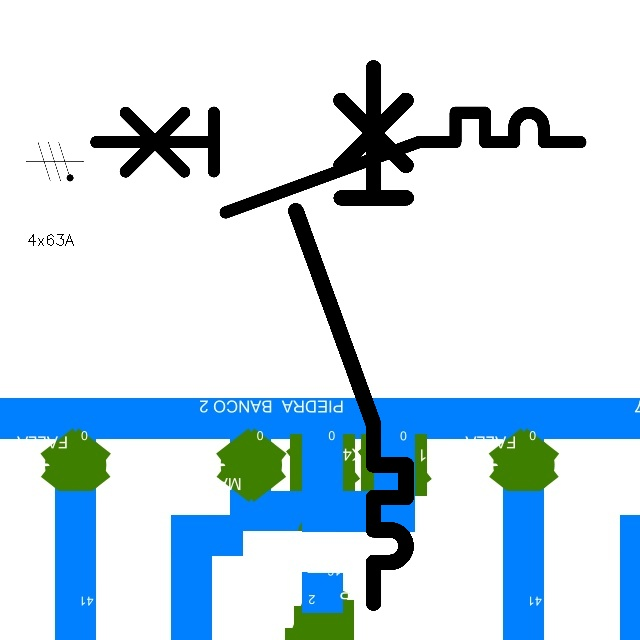interruptor_termomagnetico: (282, 54, 420, 617), (83, 100, 592, 224)
